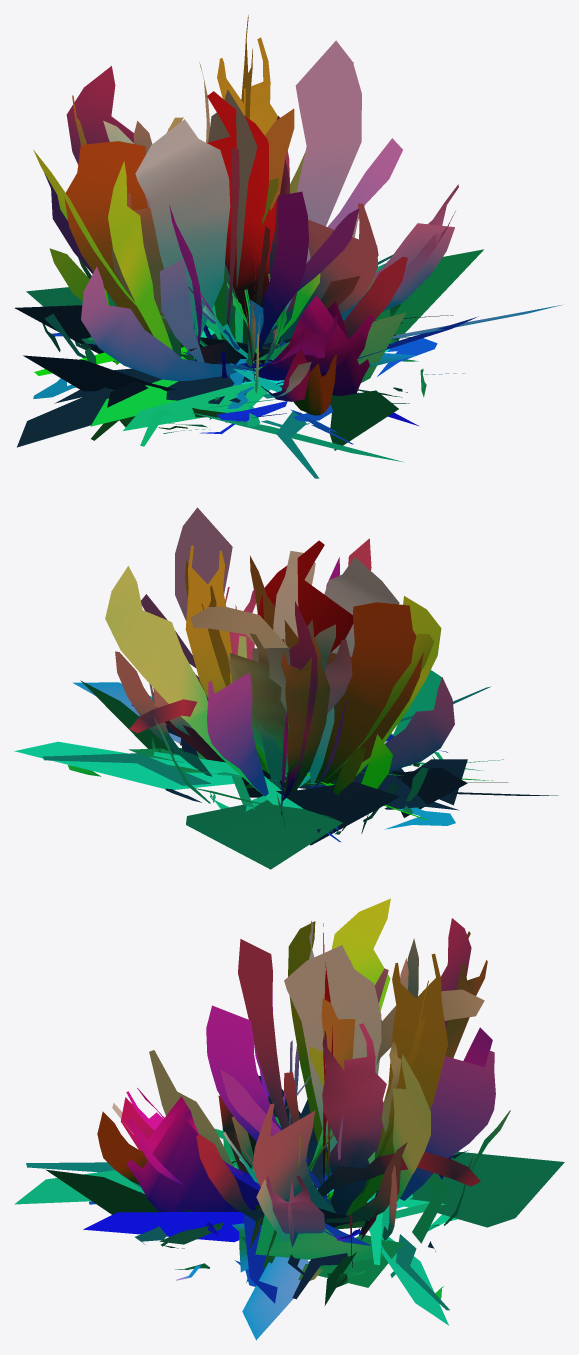
File: Dead_Shrubs_vdknafgha_Low_vdknafgha_VarG_LOD0.fbx
3 views of the same model, one above another, from view 1: azimuth 30°, elevation 25°; view 2: azimuth 150°, elevation 25°; view 3: azimuth 270°, elevation 25° (orthographic). The views are drawn at different scales.
Parts seen in each view (by area): view 1: _emyr_VarG_LOD1; view 2: _emyr_VarG_LOD1; view 3: _emyr_VarG_LOD1.
Boxes of the visible parts, x1,y1,x2,y2 form: _emyr_VarG_LOD1: [15, 15, 561, 478]; _emyr_VarG_LOD1: [14, 507, 558, 869]; _emyr_VarG_LOD1: [14, 898, 564, 1340].
Bounding box in the file's own units: 123 × 66.29 × 106.
